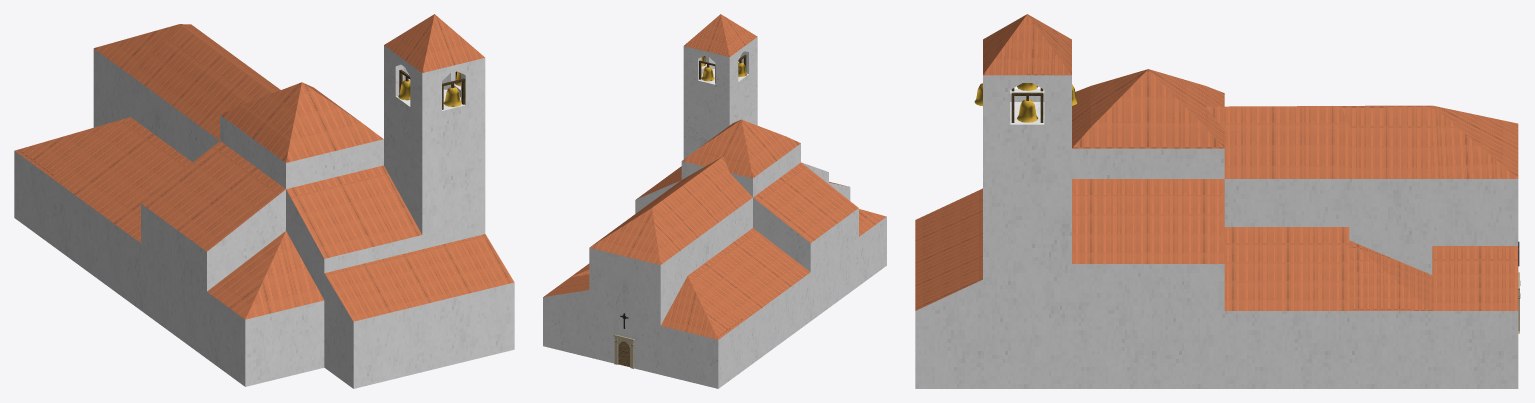
Rendered from Iglesia.fbx.
3 renders of one model, left to right at view 1: azimuth 30°, elevation 25°; view 2: azimuth 150°, elevation 25°; view 3: azimuth 270°, elevation 25°, orthographic. The views are drawn at different scales.
Visible parts, largest first — view 1: Cubo.004, Cubo.005; view 2: Cubo.004, Cubo.005, Marco; view 3: Cubo.004, Cubo.005.
Part boxes in pixels (x1,y1,x2,y2): Cubo.004: [14, 45, 514, 388]; Cubo.005: [15, 14, 514, 321]; Cubo.004: [543, 37, 886, 388]; Cubo.005: [544, 14, 886, 339]; Marco: [613, 334, 634, 368]; Cubo.004: [915, 75, 1518, 388]; Cubo.005: [915, 14, 1518, 310].
Size of the model in its own units: 3056 by 3663 by 5625.
